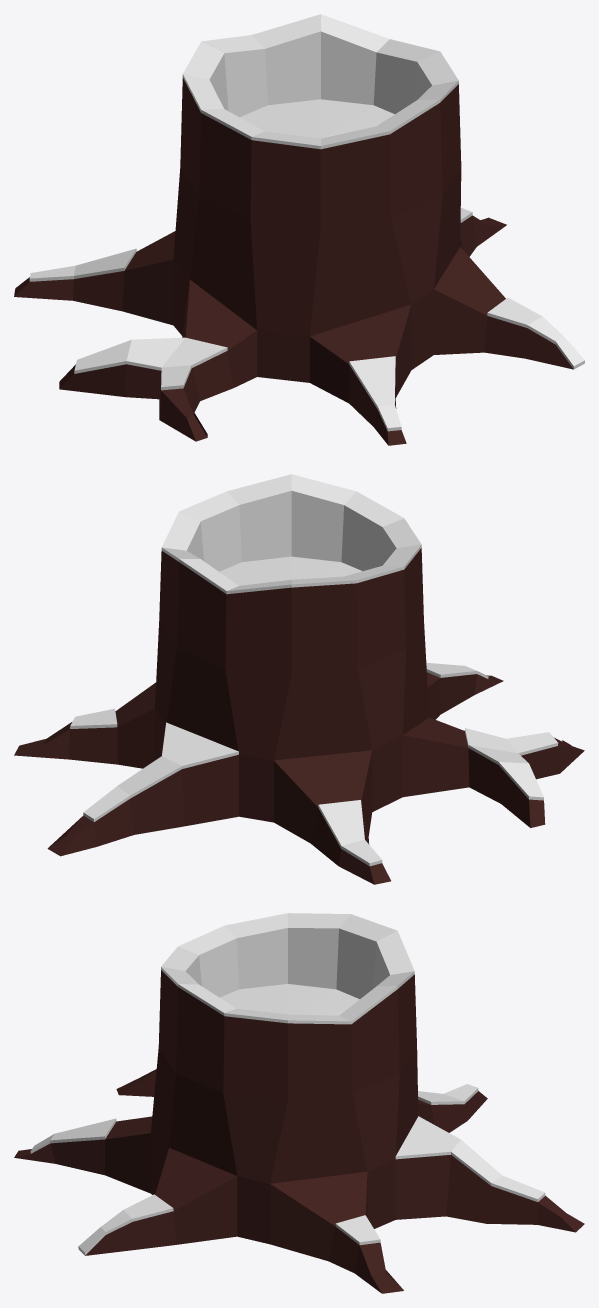
Rendered from TreeTrunkb.fbx.
3 renders of one model, top to bottom at view 1: azimuth 30°, elevation 25°; view 2: azimuth 150°, elevation 25°; view 3: azimuth 270°, elevation 25°, orthographic. The views are drawn at different scales.
Parts seen in each view (by area): view 1: TreeTrunk.001; view 2: TreeTrunk.001; view 3: TreeTrunk.001.
Boxes of the visible parts, x1,y1,x2,y2 form: TreeTrunk.001: [14, 14, 584, 445]; TreeTrunk.001: [14, 474, 584, 884]; TreeTrunk.001: [14, 913, 584, 1293].
Size of the model in its own units: 1082 by 517 by 1156.
